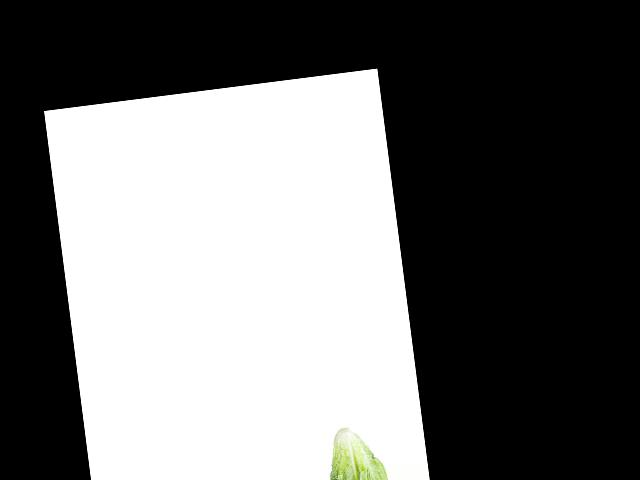lettuce: (322, 421, 389, 480)
